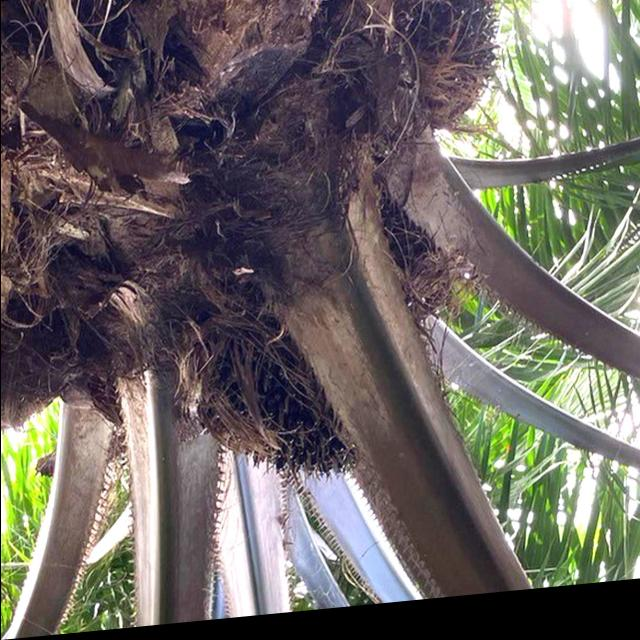unripe: (214, 318, 362, 495)
